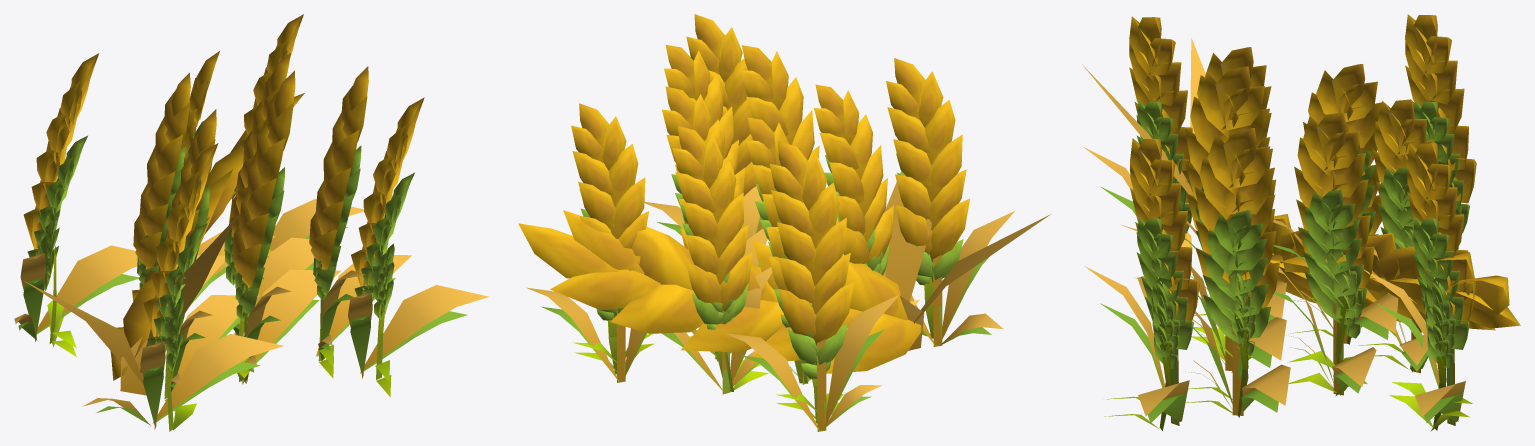
Rendered from Wheat_Stages.fbx.
3 renders of one model, left to right at view 1: azimuth 30°, elevation 25°; view 2: azimuth 150°, elevation 25°; view 3: azimuth 270°, elevation 25°, orthographic. The views are drawn at different scales.
Parts seen in each view (by area): view 1: Wheat, Wheat_Prized; view 2: Wheat, Wheat_Prized; view 3: Wheat, Wheat_Prized.
Part boxes in pixels (left/top/right/bottom): Wheat: left=14, top=14, right=488, bottom=431; Wheat_Prized: left=24, top=93, right=304, bottom=395; Wheat: left=526, top=14, right=1014, bottom=431; Wheat_Prized: left=518, top=171, right=1050, bottom=373; Wheat: left=1083, top=14, right=1476, bottom=431; Wheat_Prized: left=1082, top=38, right=1520, bottom=330.
Bounding box in the file's own units: 259 × 163 × 191.
